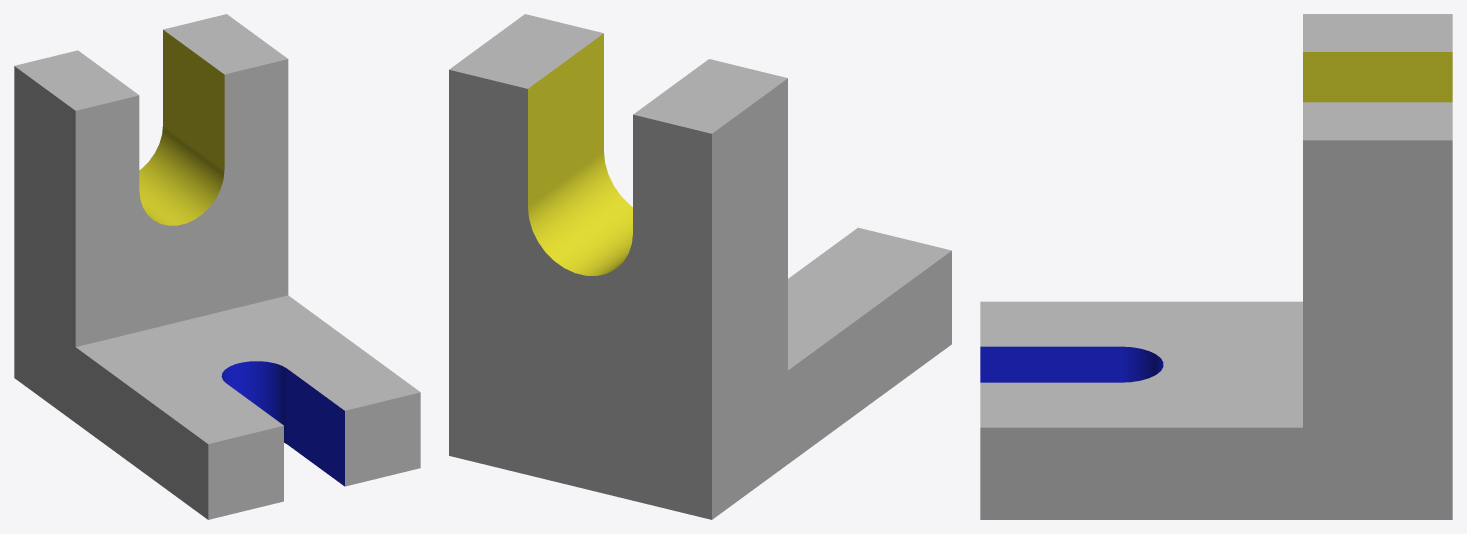
The picture shows the model from 3 angles, left to right: view 1: azimuth 30°, elevation 25°; view 2: azimuth 150°, elevation 25°; view 3: azimuth 270°, elevation 25°; orthographic projection. The views are drawn at different scales.
Visible parts, largest first — view 1: Solid3; view 2: Solid3; view 3: Solid3.
Part boxes in pixels (x1,y1,x2,y2): Solid3: (14, 14, 420, 519); Solid3: (449, 14, 951, 519); Solid3: (980, 14, 1452, 519).
Bounding box in the file's own units: 0.07 × 0.0982 × 0.1106.
